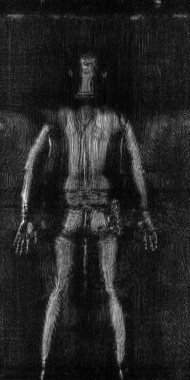gun: (93, 193, 131, 243)
